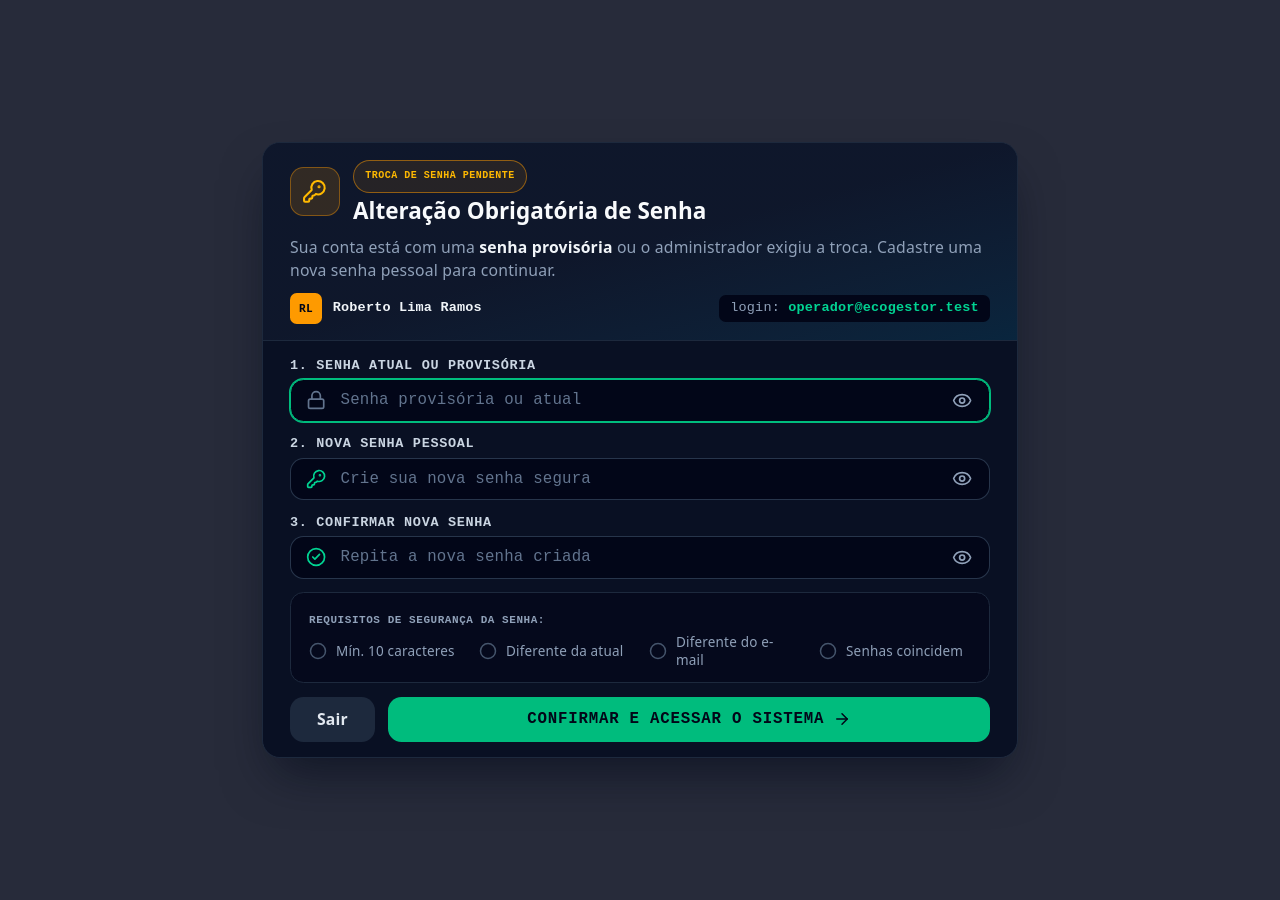
TrocaSenhaObrigatoriaModal › exibe a recusa da API e mantém o usuário na troca
The width and height of the screenshot is (1280, 900).
In the password field labelled "1. Senha atual ou provisória": (640, 400) [290, 379, 990, 422], type "senha-errada"
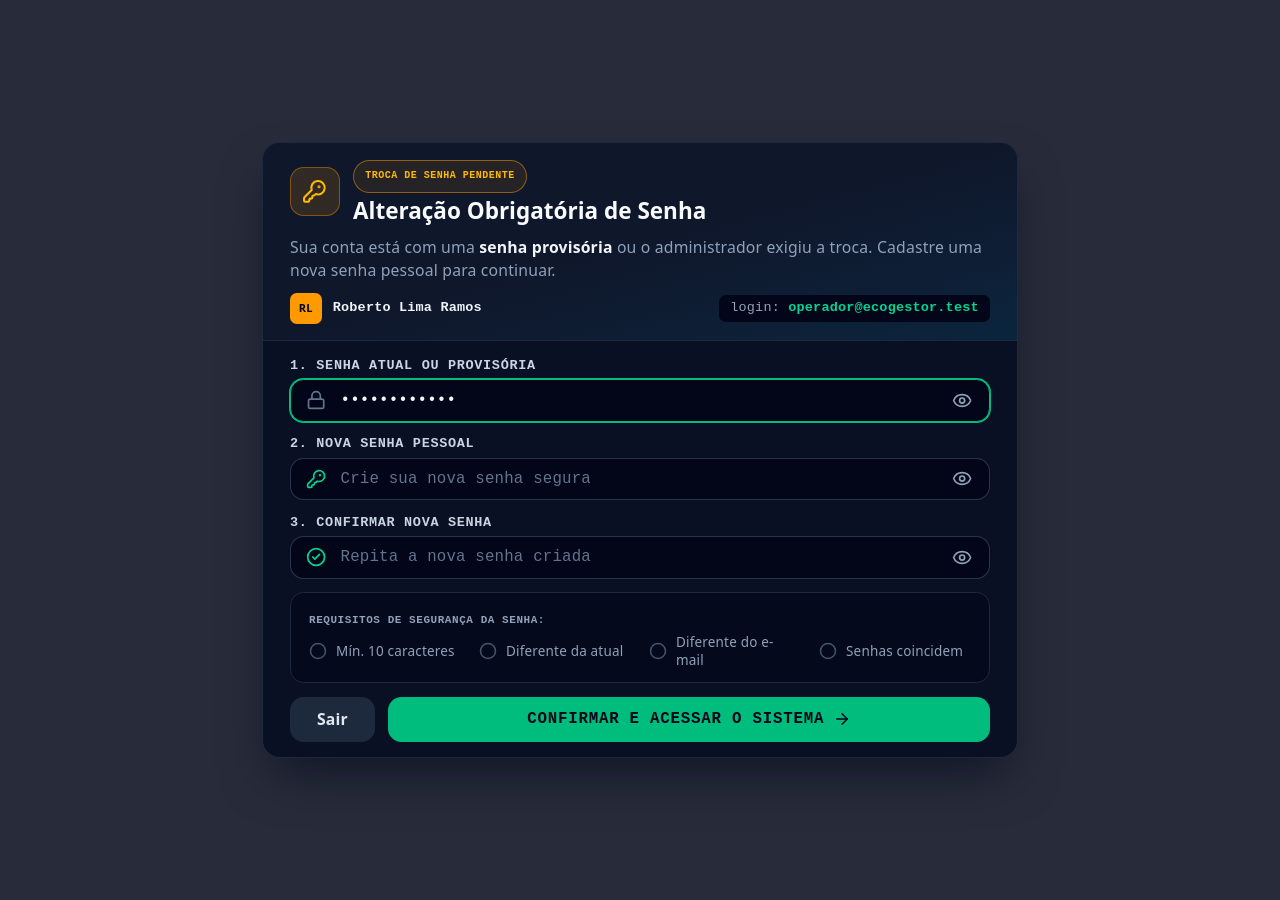
In the password field labelled "2. Nova senha pessoal": (640, 479) [290, 458, 990, 500], type "nova-senha-segura"
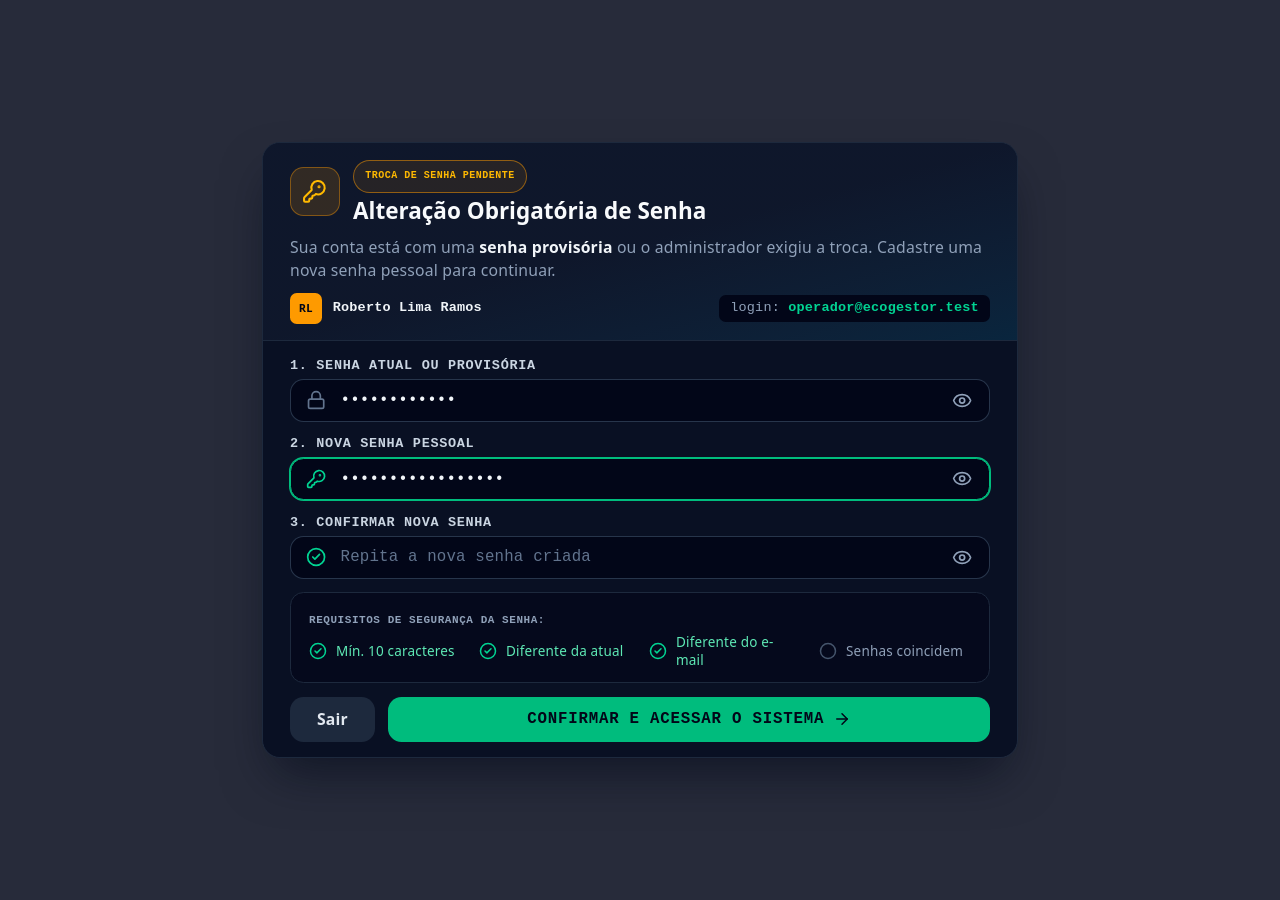
In the password field labelled "3. Confirmar nova senha": (640, 557) [290, 536, 990, 579], type "nova-senha-segura"
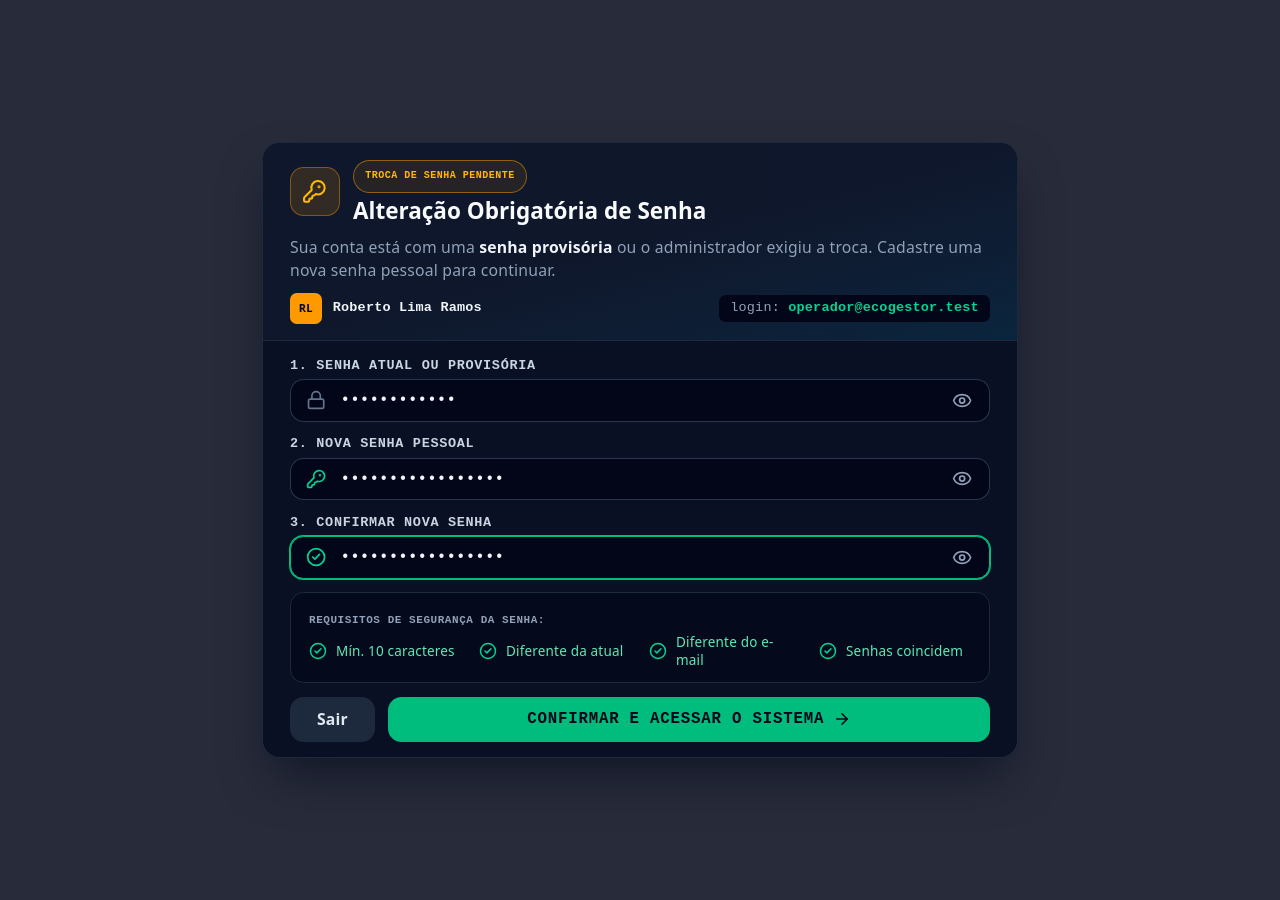
Click the button "Confirmar e acessar o sistema": (689, 719) [388, 697, 990, 742]
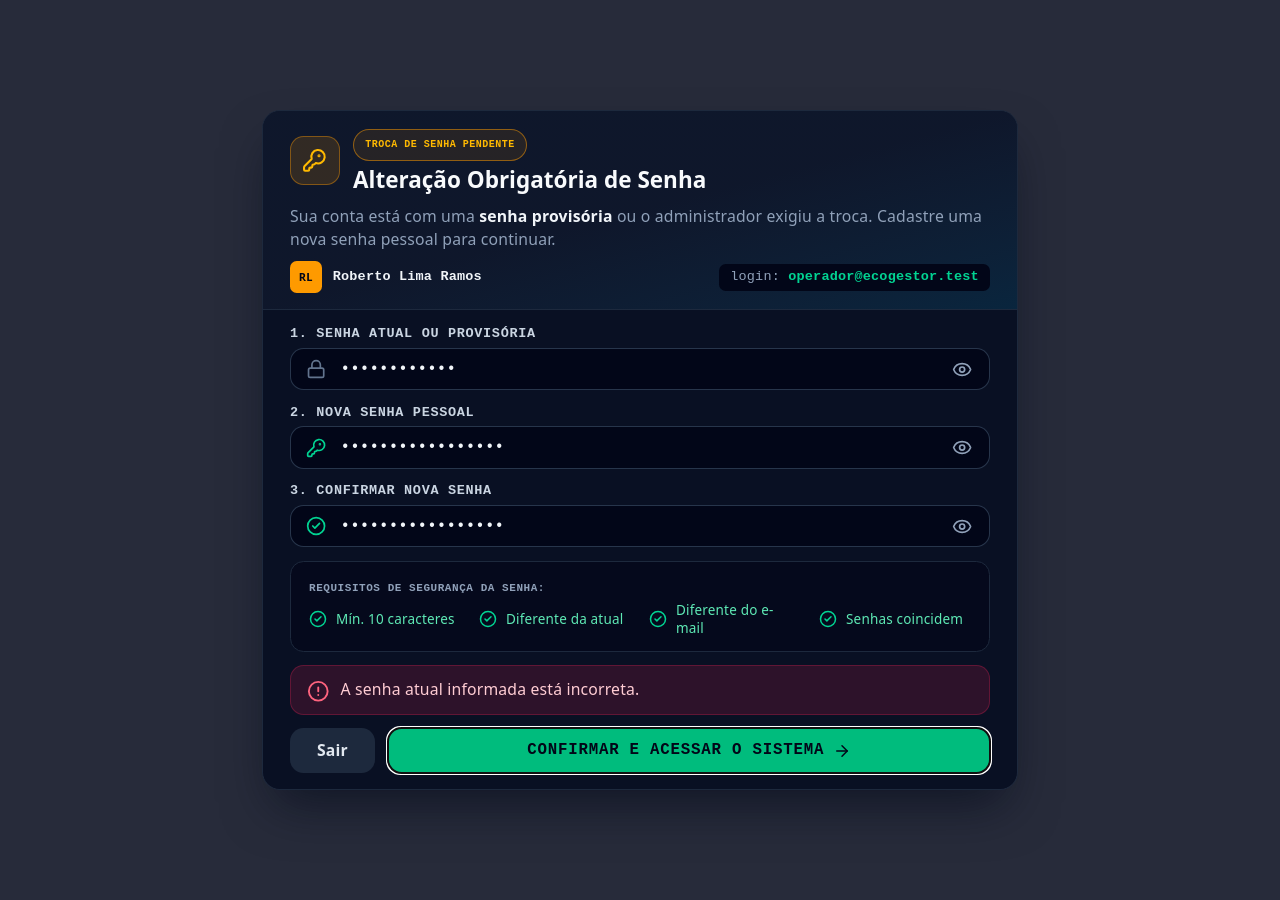
Check: the message reads "A senha atual informada está incorreta.", box [340, 678, 639, 700]
